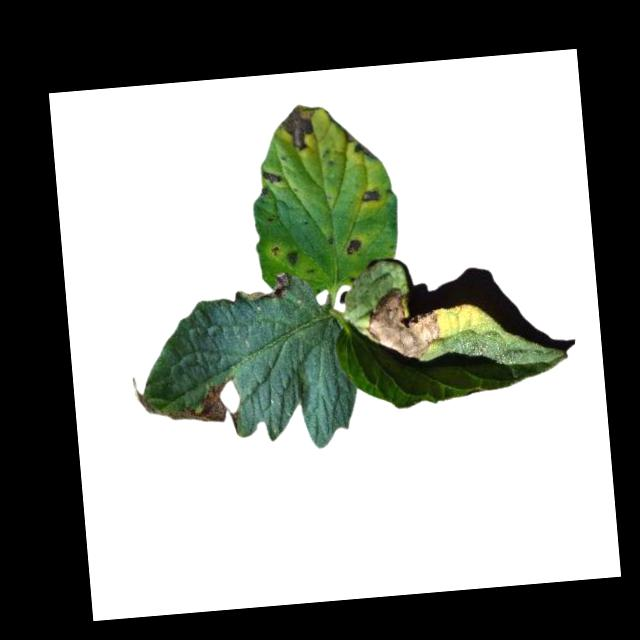Early_blight: (129, 367, 243, 443), (362, 282, 444, 365), (279, 98, 324, 153), (246, 273, 294, 307), (260, 166, 284, 185), (353, 142, 376, 159), (360, 186, 382, 203), (345, 237, 361, 257), (286, 245, 299, 265)
